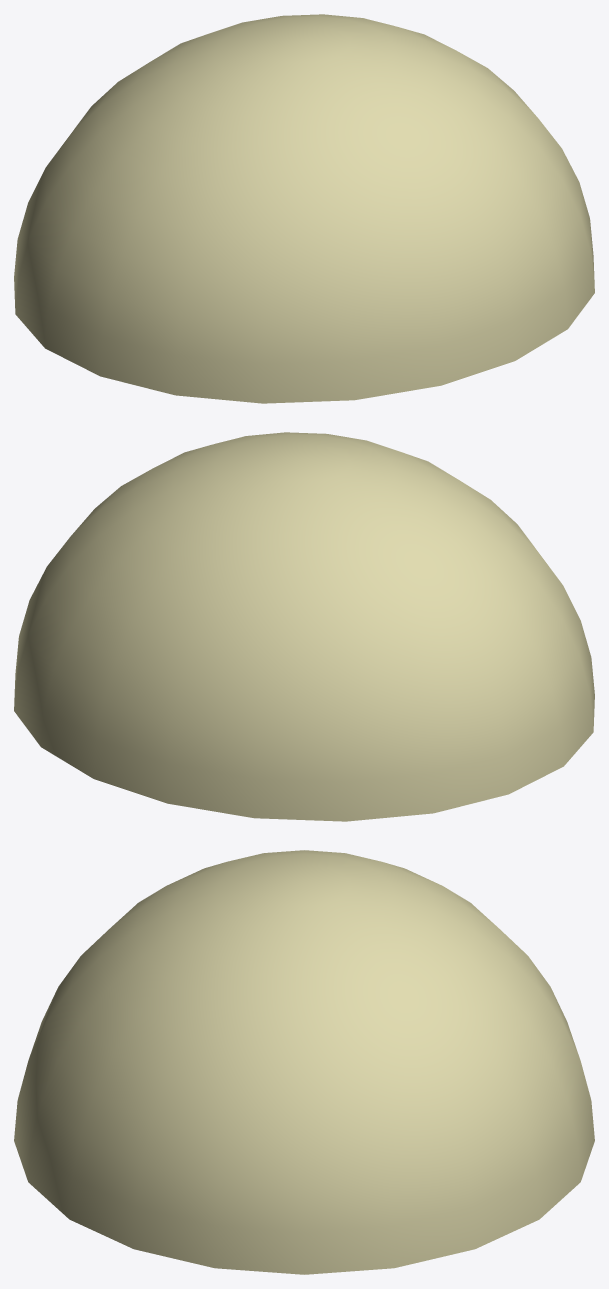
File: Dough.fbx
The picture shows the model from 3 angles, top to bottom: view 1: azimuth 30°, elevation 25°; view 2: azimuth 150°, elevation 25°; view 3: azimuth 270°, elevation 25°; orthographic projection. The views are drawn at different scales.
Visible parts, largest first — view 1: pSphere1; view 2: pSphere1; view 3: pSphere1.
Part boxes in pixels (bbox=[...]): pSphere1: bbox=[14, 14, 594, 403]; pSphere1: bbox=[14, 432, 594, 821]; pSphere1: bbox=[14, 850, 594, 1274].
Size of the model in its own units: 0.9818 by 0.4406 by 0.8994.
